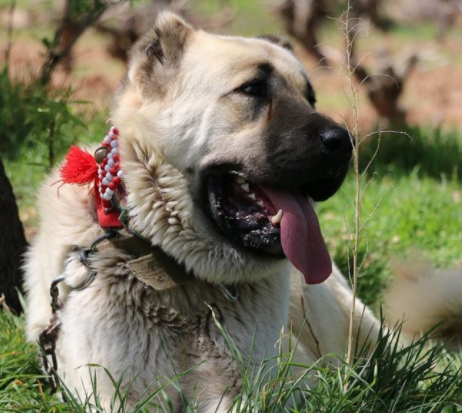dog: (22, 16, 356, 413)
